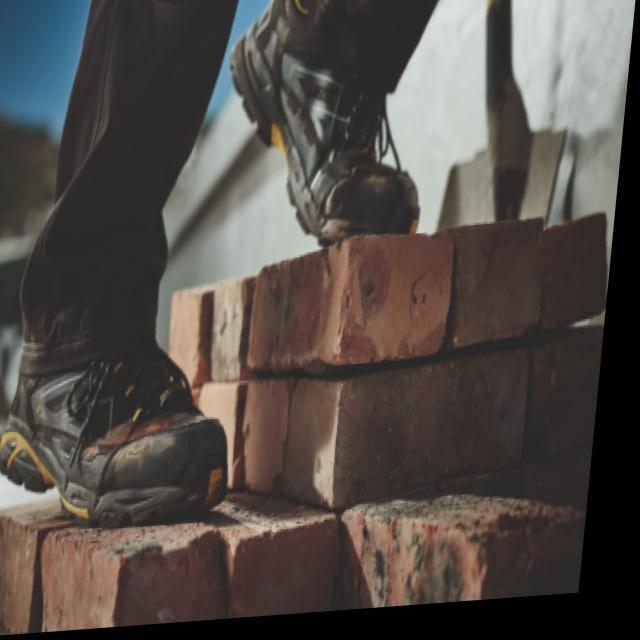shoes: (0, 0, 450, 547)
